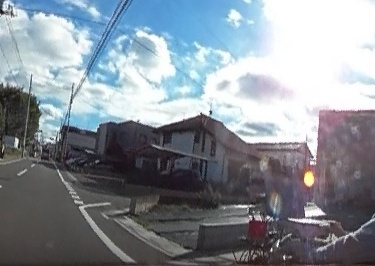person: (304, 116, 375, 266)
